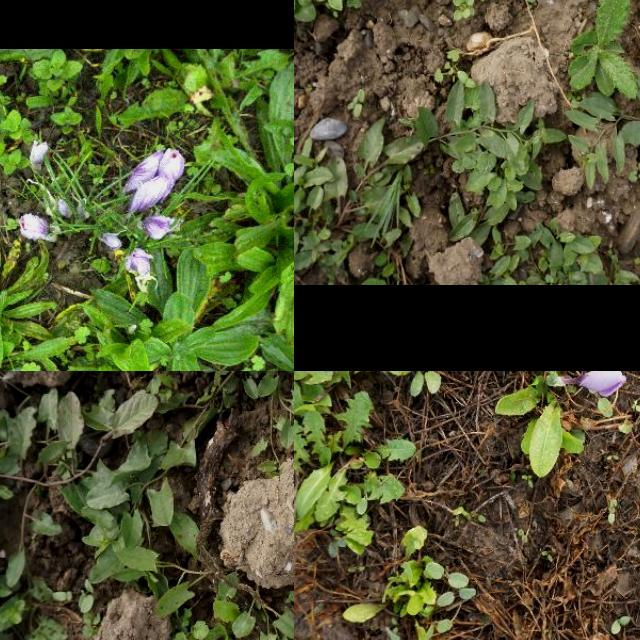flower: (574, 371, 628, 397), (19, 212, 51, 242), (142, 214, 170, 242), (125, 248, 153, 274), (30, 140, 50, 168), (101, 232, 122, 250)
overlap: (122, 148, 186, 218)
